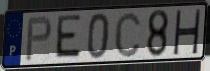0: (85, 11, 111, 61)
8: (146, 9, 170, 59)
C: (113, 10, 143, 60)
E: (53, 13, 83, 61)
H: (171, 9, 202, 56)
P: (24, 15, 54, 63)
